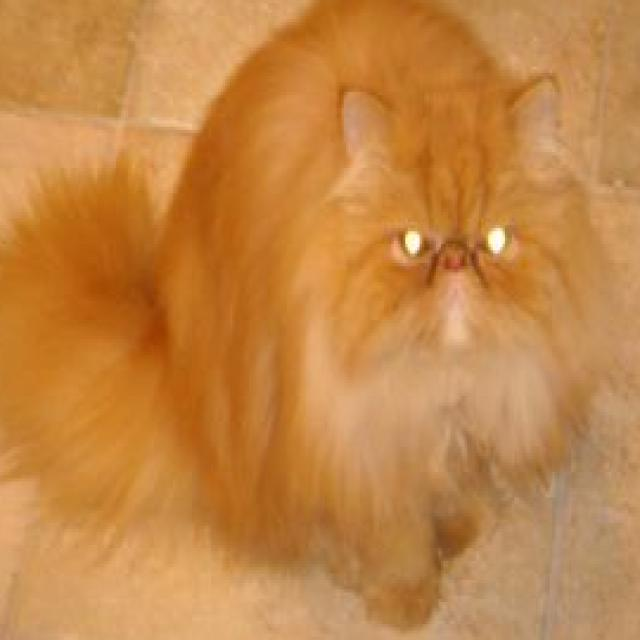Persian: (0, 0, 621, 634)
